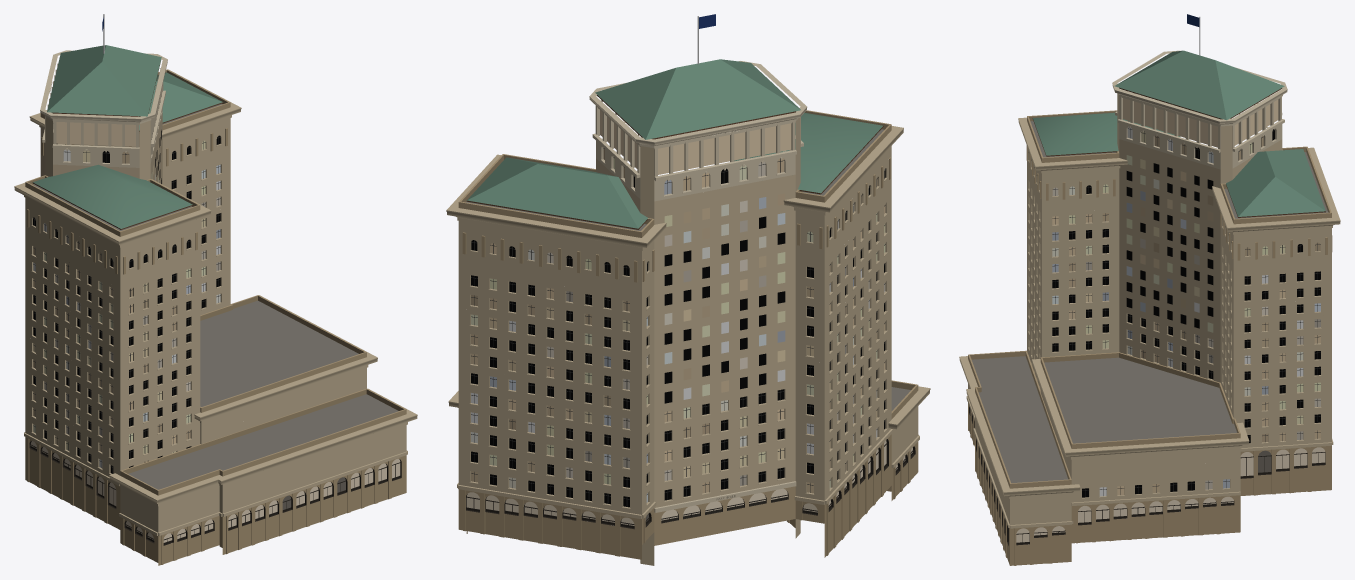
Rendered from markHopkins_lod0.glb.
The picture shows the model from 3 angles, left to right: view 1: azimuth 30°, elevation 25°; view 2: azimuth 150°, elevation 25°; view 3: azimuth 270°, elevation 25°; orthographic projection. The views are drawn at different scales.
Parts seen in each view (by area): view 1: L0_stone, L0_roof, L0_paint, L0_win, L0_metal, L0_shop, L0_wood; view 2: L0_stone, L0_win, L0_paint, L0_metal, L0_shop, L0_roof, L0_wood; view 3: L0_stone, L0_roof, L0_win, L0_paint, L0_metal, L0_shop, L0_wood.
Boxes of the visible parts, x1,y1,x2,y2 form: L0_stone: (14, 50, 417, 565); L0_roof: (33, 103, 398, 489); L0_paint: (33, 45, 222, 228); L0_win: (33, 70, 220, 473); L0_metal: (29, 14, 401, 545); L0_shop: (30, 441, 400, 542); L0_wood: (32, 59, 223, 229); L0_stone: (446, 61, 930, 565); L0_win: (471, 110, 885, 507); L0_paint: (467, 59, 882, 228); L0_metal: (466, 16, 915, 529); L0_shop: (466, 440, 912, 525); L0_roof: (466, 129, 910, 410); L0_wood: (466, 95, 883, 229); L0_stone: (959, 50, 1340, 565); L0_roof: (972, 121, 1328, 483); L0_win: (1052, 98, 1320, 497); L0_paint: (1033, 50, 1325, 216); L0_metal: (969, 16, 1325, 545); L0_shop: (1016, 447, 1325, 542); L0_wood: (1032, 87, 1325, 217).
Size of the model in its own units: 67.97 by 95 by 72.91.
